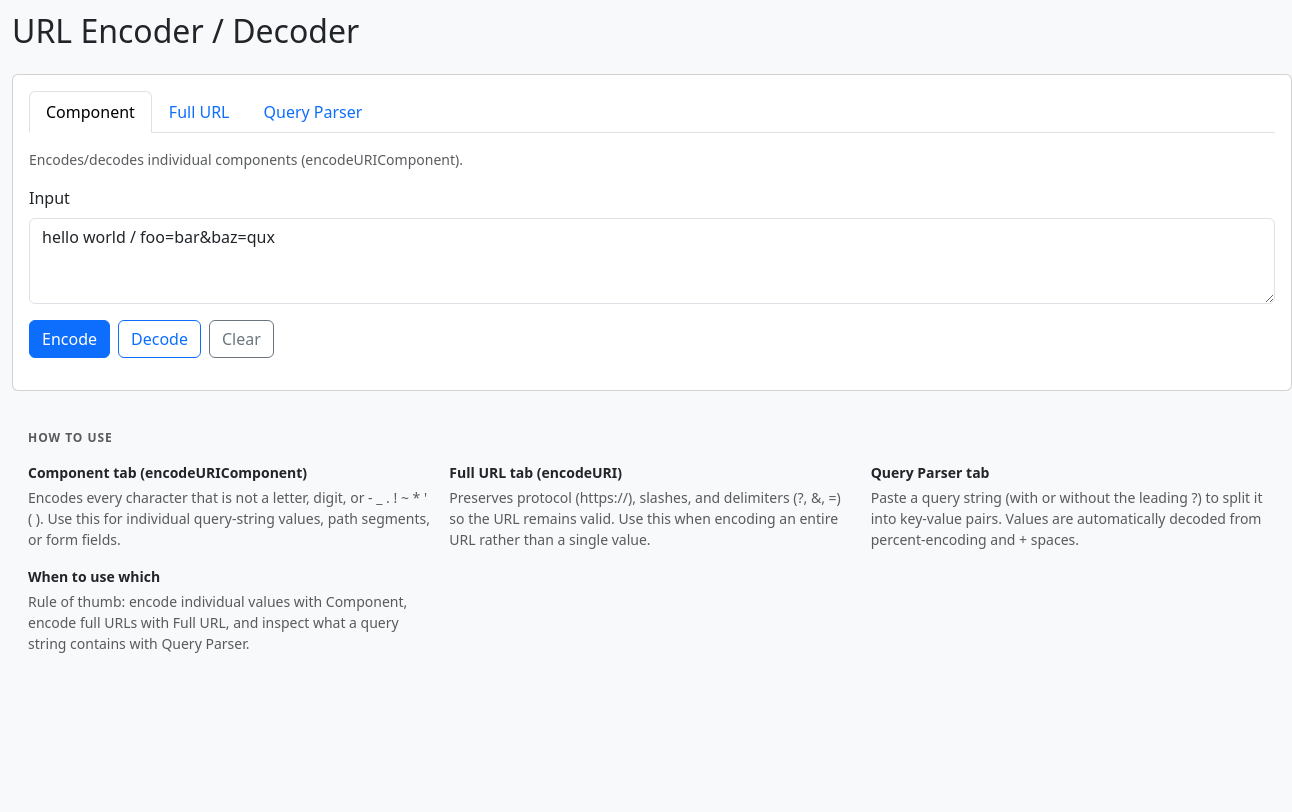
it: UrlTool › Component tab › decodes on Decode click
Replace the text in the text box named "URL component input" with "hello%20world" at (652,261), box [29,218,1275,304]
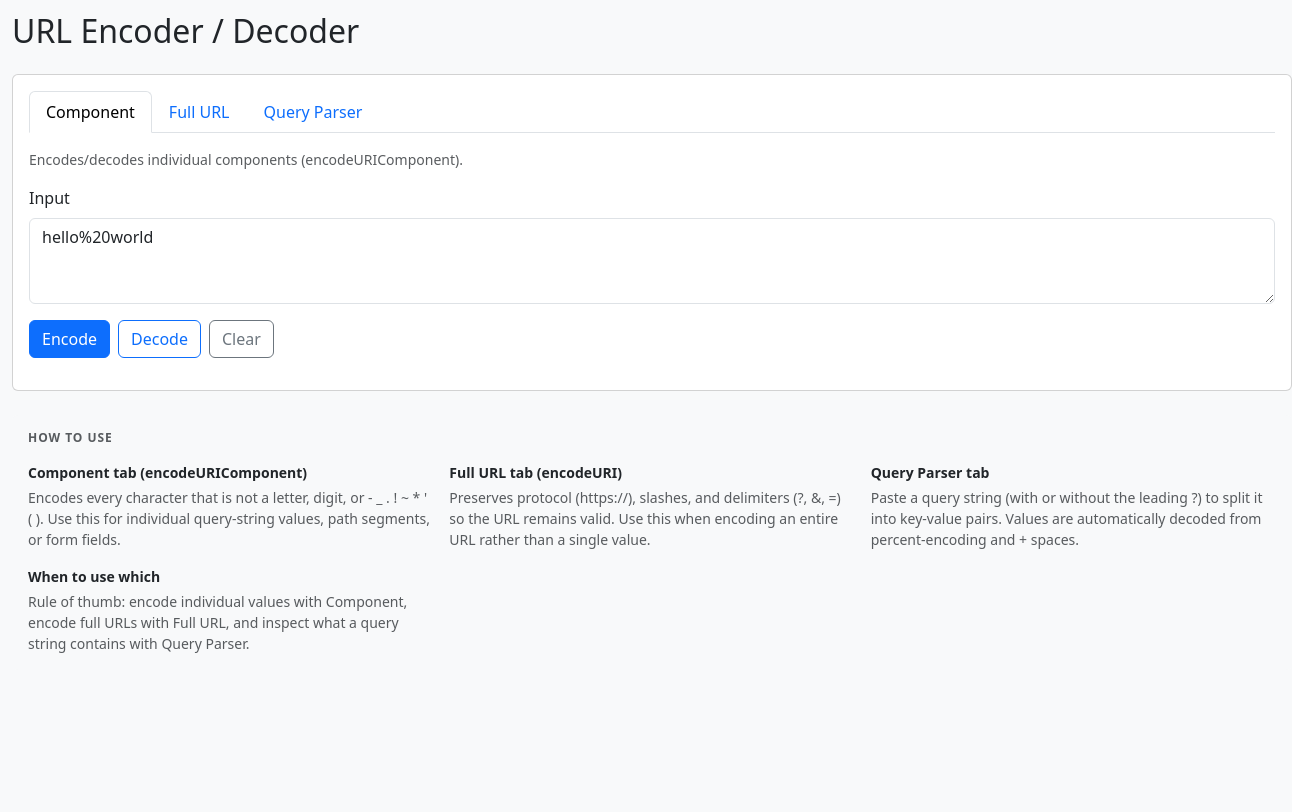
Click the button "Decode".
click(159, 339)  # box [118,320,201,358]
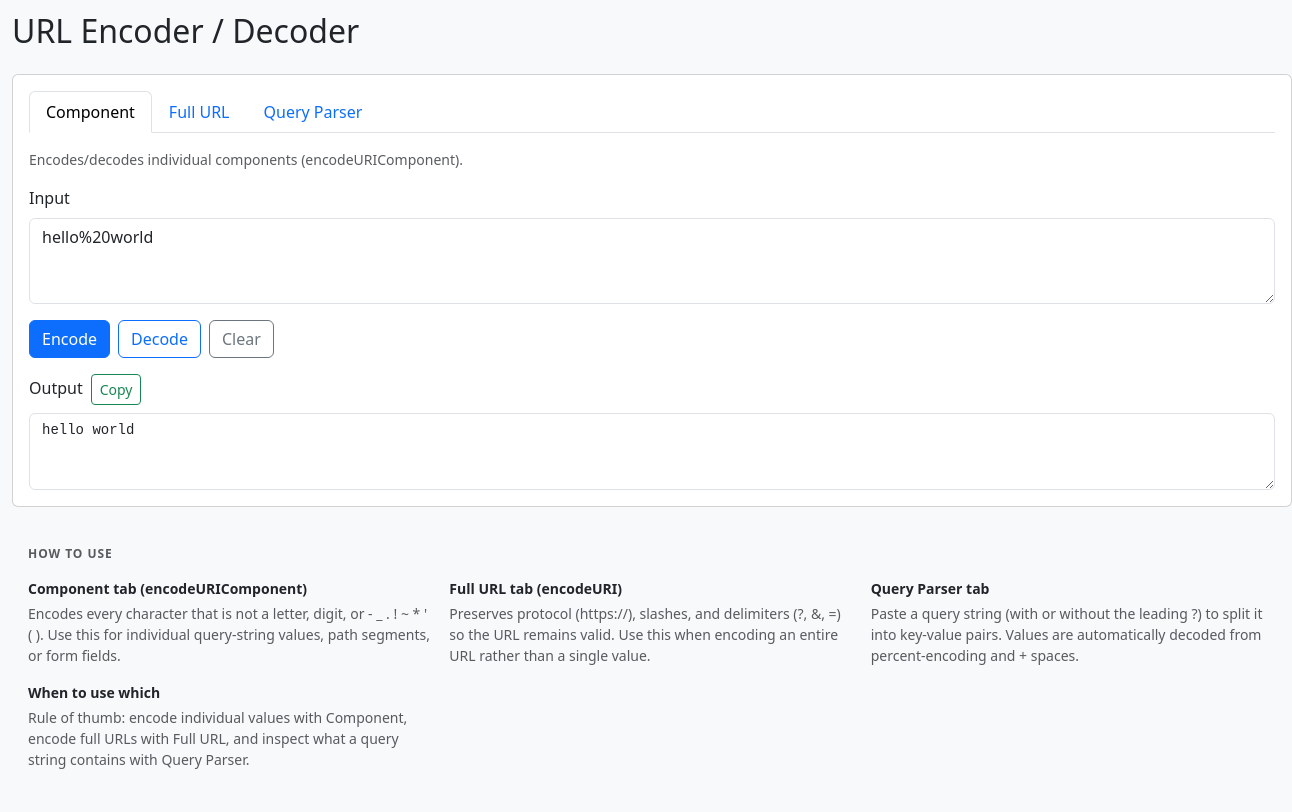
Expected: the text box named "URL component output" holds "hello world", [29,413,1275,490]
